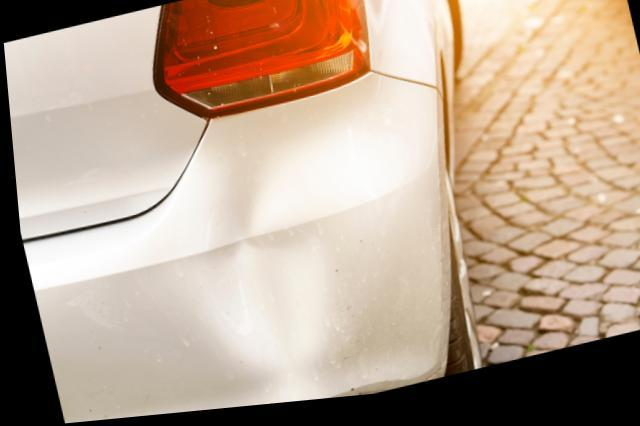dent: (187, 156, 321, 370)
